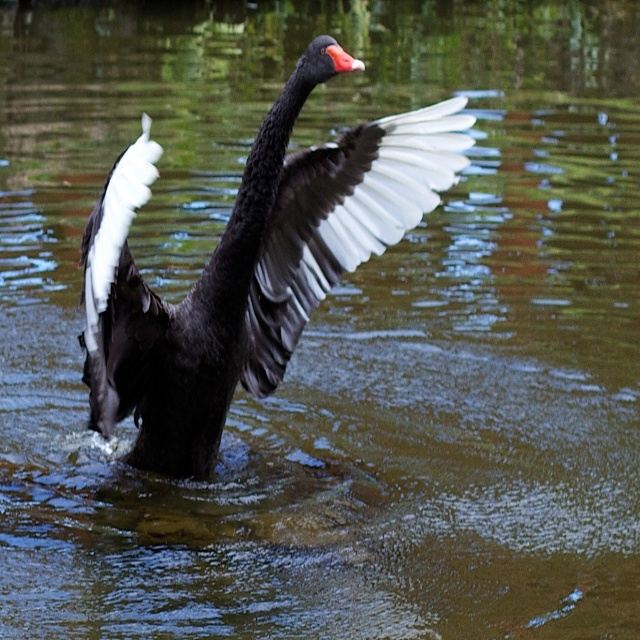Swan: (77, 35, 477, 481)
